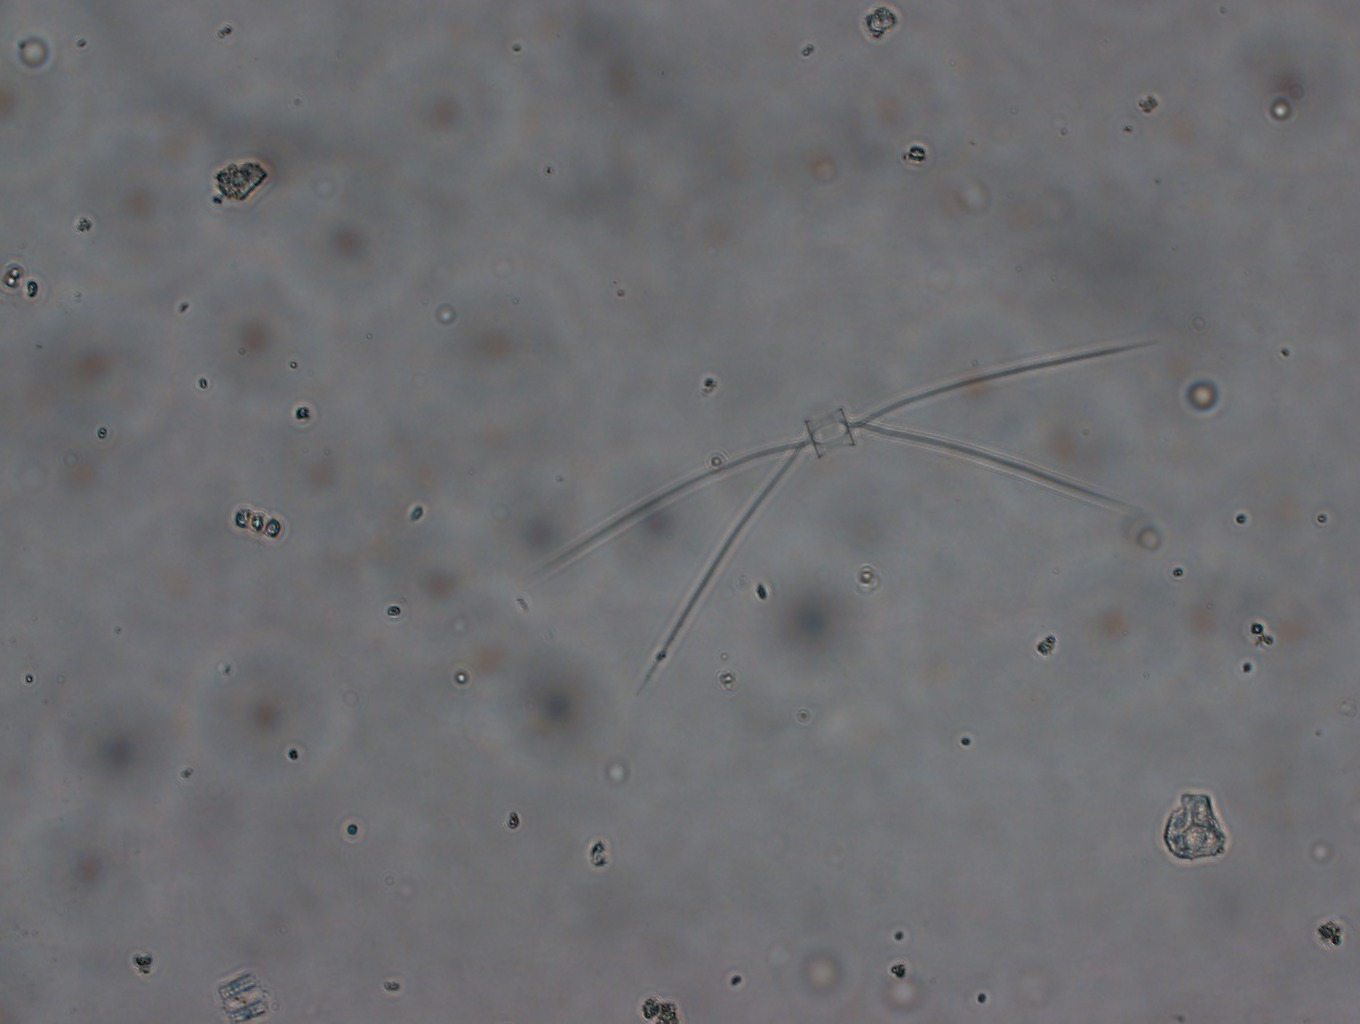chaetoceros: (541, 343, 1169, 689)
